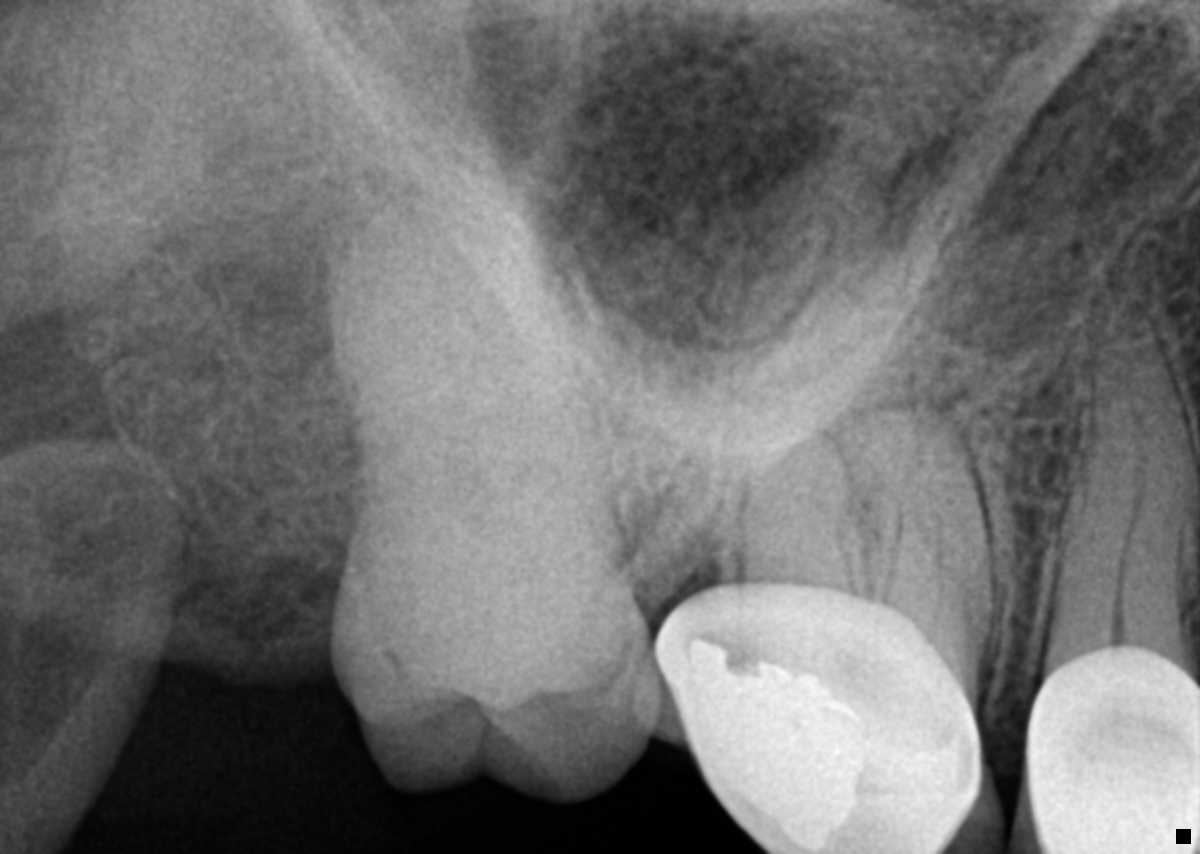Apical Lesion: (854, 361, 963, 428)
Distal Root: (743, 427, 857, 598)
Main Canal: (1111, 355, 1146, 648)
Main Root: (334, 169, 632, 584), (1041, 281, 1200, 672)
Mesial Root: (838, 404, 995, 687)
Palatal Root: (712, 156, 947, 604)
